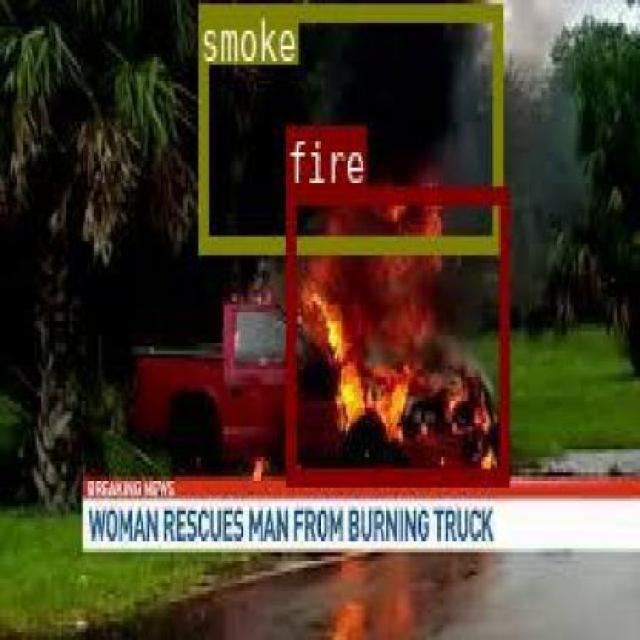Fire: (283, 184, 508, 481)
Smoke: (196, 0, 501, 252)
